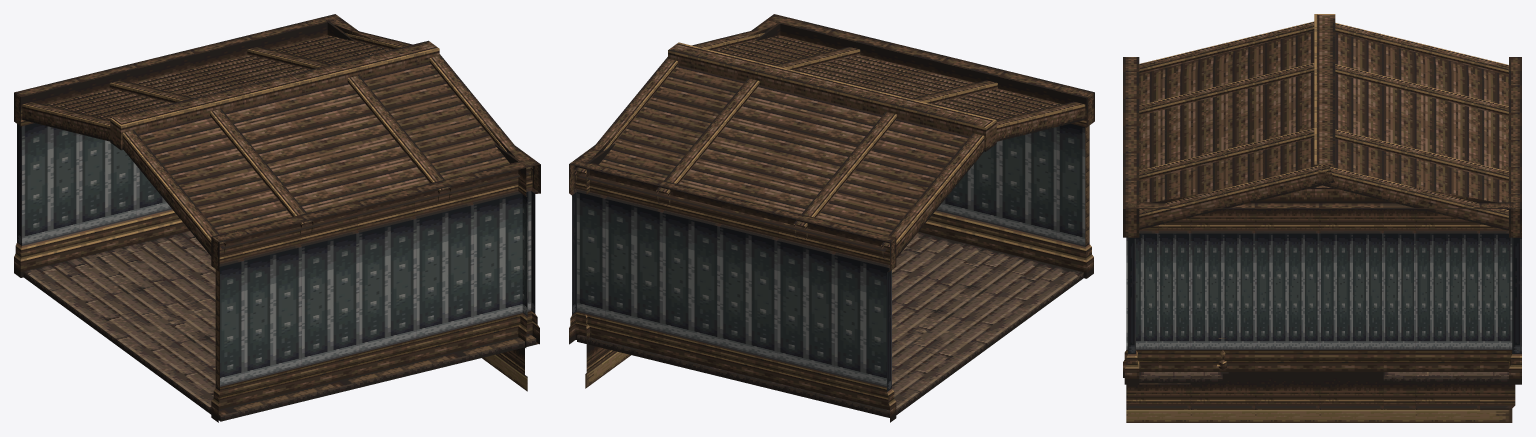
Rendered from EnvBdgMD_Wilderness_A_Indoor_A_2F.FBX.
The picture shows the model from 3 angles, left to right: view 1: azimuth 30°, elevation 25°; view 2: azimuth 150°, elevation 25°; view 3: azimuth 270°, elevation 25°; orthographic projection. The views are drawn at different scales.
Visible parts, largest first — view 1: EnvBdgMD_Wilderness_A_Indoor_A_2F; view 2: EnvBdgMD_Wilderness_A_Indoor_A_2F; view 3: EnvBdgMD_Wilderness_A_Indoor_A_2F.
Boxes of the visible parts, x1,y1,x2,y2 form: EnvBdgMD_Wilderness_A_Indoor_A_2F: (14,14,540,422); EnvBdgMD_Wilderness_A_Indoor_A_2F: (569,14,1094,422); EnvBdgMD_Wilderness_A_Indoor_A_2F: (1123,14,1521,422).
Size of the model in its own units: 1120 by 900 by 1240.
Materials: 1 (1 with a texture image).
